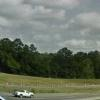Tree: (51, 43, 100, 87)
